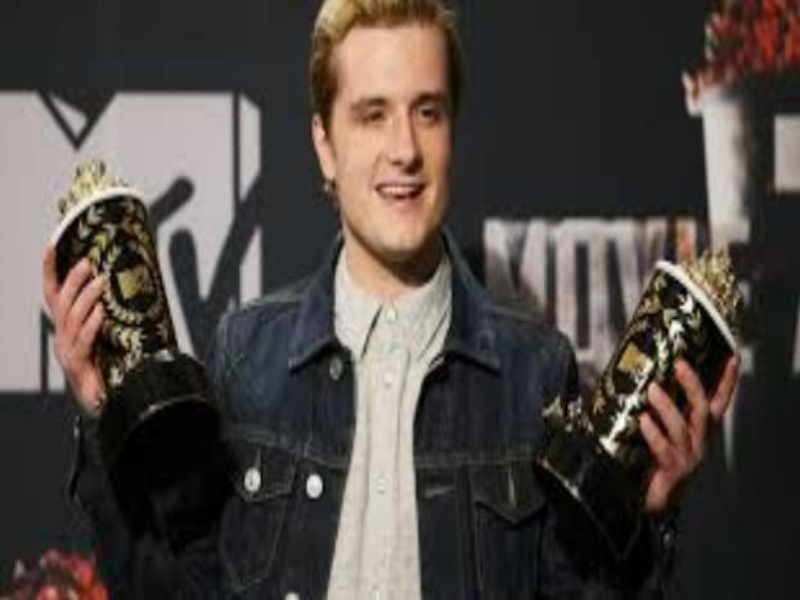TsisyArotava: (310, 1, 488, 274)
